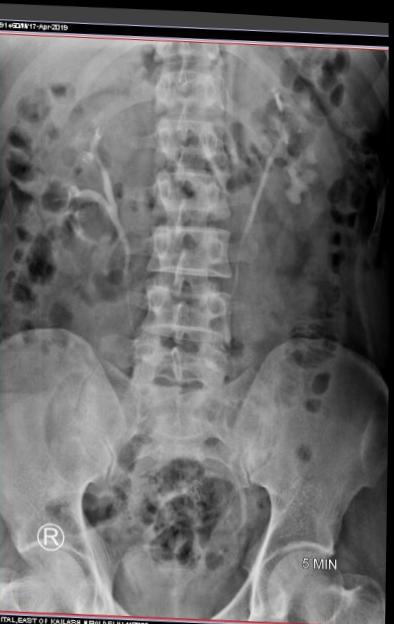vertebrae: (159, 89, 238, 149)
